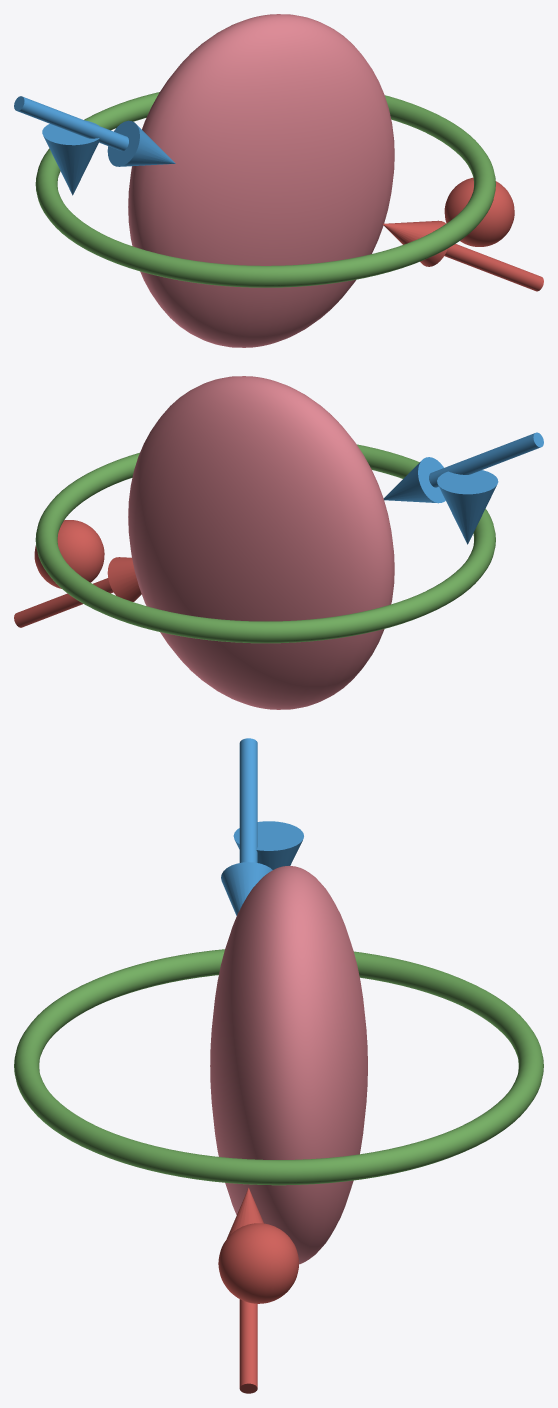
Rendered from bio-p1-temperature-regulation.glb.
3 views of the same model, one above another, from view 1: azimuth 30°, elevation 25°; view 2: azimuth 150°, elevation 25°; view 3: azimuth 270°, elevation 25° (orthographic). The views are drawn at different scales.
Parts seen in each view (by area): view 1: body-temperature-core, homeostasis-comfort-zone, shiver-heat-marker, sweat-cooling-drop, cooling-feedback-arrow-shaft, cooling-feedback-arrow-head, warming-feedback-arrow-shaft, warming-feedback-arrow-head; view 2: body-temperature-core, homeostasis-comfort-zone, sweat-cooling-drop, shiver-heat-marker, cooling-feedback-arrow-shaft, cooling-feedback-arrow-head, warming-feedback-arrow-shaft, warming-feedback-arrow-head; view 3: body-temperature-core, homeostasis-comfort-zone, shiver-heat-marker, cooling-feedback-arrow-shaft, sweat-cooling-drop, warming-feedback-arrow-shaft, cooling-feedback-arrow-head.
Part boxes in pixels (bbox=[...]): body-temperature-core: bbox=[128, 14, 394, 347]; homeostasis-comfort-zone: bbox=[35, 92, 495, 287]; shiver-heat-marker: bbox=[444, 177, 514, 246]; sweat-cooling-drop: bbox=[42, 120, 99, 195]; cooling-feedback-arrow-shaft: bbox=[14, 96, 128, 151]; cooling-feedback-arrow-head: bbox=[107, 120, 175, 166]; warming-feedback-arrow-shaft: bbox=[444, 244, 543, 291]; warming-feedback-arrow-head: bbox=[382, 220, 447, 266]; body-temperature-core: bbox=[128, 376, 394, 709]; homeostasis-comfort-zone: bbox=[35, 444, 495, 643]; sweat-cooling-drop: bbox=[437, 470, 498, 544]; shiver-heat-marker: bbox=[34, 520, 104, 588]; cooling-feedback-arrow-shaft: bbox=[429, 432, 543, 487]; cooling-feedback-arrow-head: bbox=[383, 457, 445, 503]; warming-feedback-arrow-shaft: bbox=[14, 578, 113, 627]; warming-feedback-arrow-head: bbox=[107, 557, 141, 601]; body-temperature-core: bbox=[210, 866, 367, 1264]; homeostasis-comfort-zone: bbox=[14, 949, 543, 1185]; shiver-heat-marker: bbox=[218, 1223, 299, 1303]; cooling-feedback-arrow-shaft: bbox=[239, 738, 257, 862]; sweat-cooling-drop: bbox=[233, 821, 303, 869]; warming-feedback-arrow-shaft: bbox=[239, 1299, 257, 1393]; cooling-feedback-arrow-head: bbox=[221, 862, 272, 915].
Size of what is drawn, in the model's own units: 1.39 by 0.816 by 1.05.
